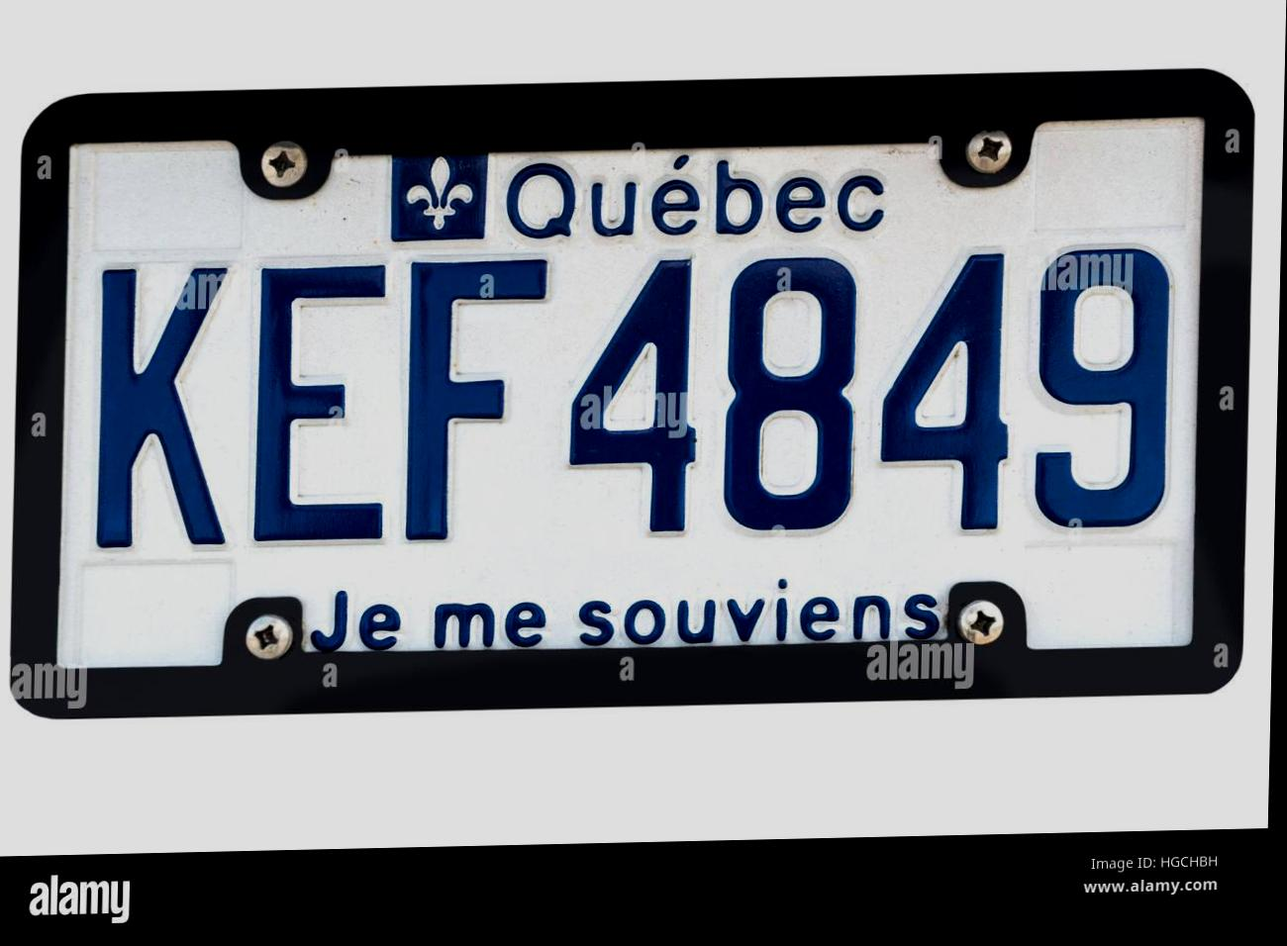License_Plate: (44, 102, 1215, 696)
